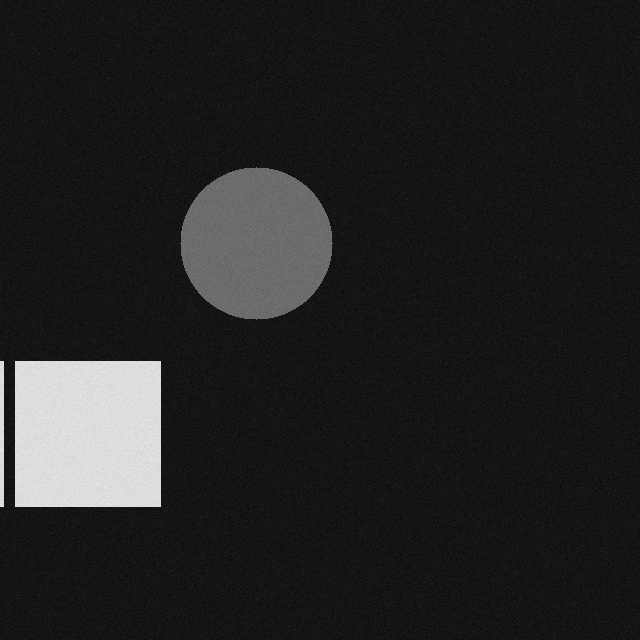circle: (171, 155, 323, 307)
square: (6, 349, 151, 494)
